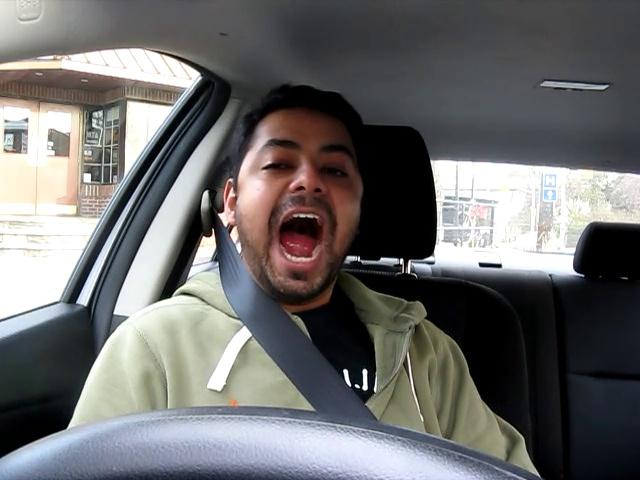close_eyeL: (244, 148, 302, 185)
close_eyeR: (305, 155, 365, 191)
yawn: (256, 197, 346, 270)
